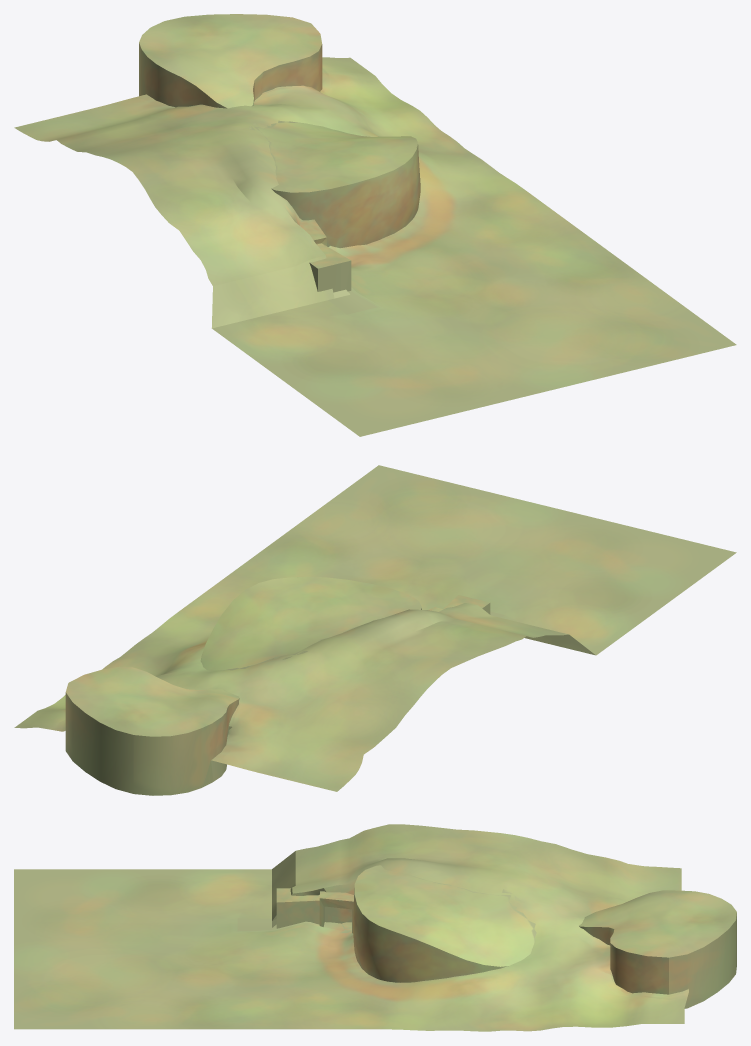
File: GROUND.fbx
3 renders of one model, top to bottom at view 1: azimuth 30°, elevation 25°; view 2: azimuth 150°, elevation 25°; view 3: azimuth 270°, elevation 25°, orthographic. The views are drawn at different scales.
Parts seen in each view (by area): view 1: Plane.001; view 2: Plane.001; view 3: Plane.001.
Boxes of the visible parts, x1,y1,x2,y2 form: Plane.001: (14, 14, 736, 436); Plane.001: (14, 465, 736, 795); Plane.001: (14, 824, 736, 1031).
Size of the model in its own units: 2608 by 502 by 4975.
